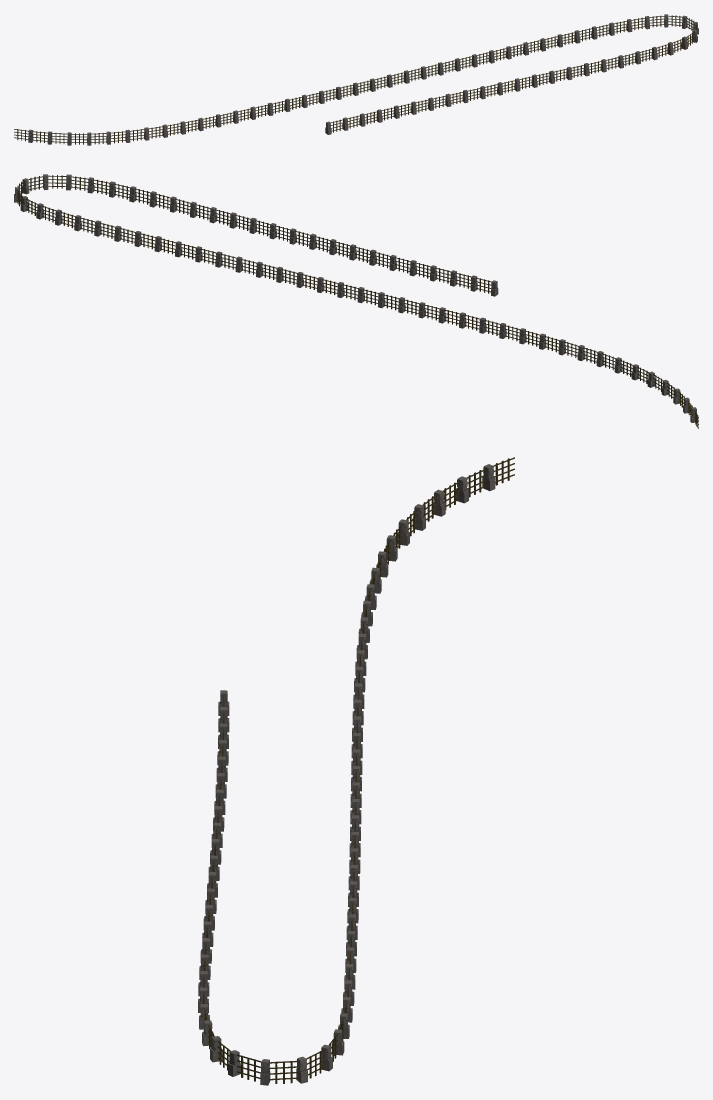
The model's file is Pagarbanyak5.fbx.
3 renders of one model, top to bottom at view 1: azimuth 30°, elevation 25°; view 2: azimuth 150°, elevation 25°; view 3: azimuth 270°, elevation 25°, orthographic. The views are drawn at different scales.
Visible parts, largest first — view 1: Model 3.001; view 2: Model 3.001; view 3: Model 3.001.
Boxes of the visible parts, <box> form: Model 3.001: <box>14,14,698,145</box>; Model 3.001: <box>14,174,698,428</box>; Model 3.001: <box>198,457,514,1085</box>.
Size of the model in its own units: 9607 by 164 by 2117.
